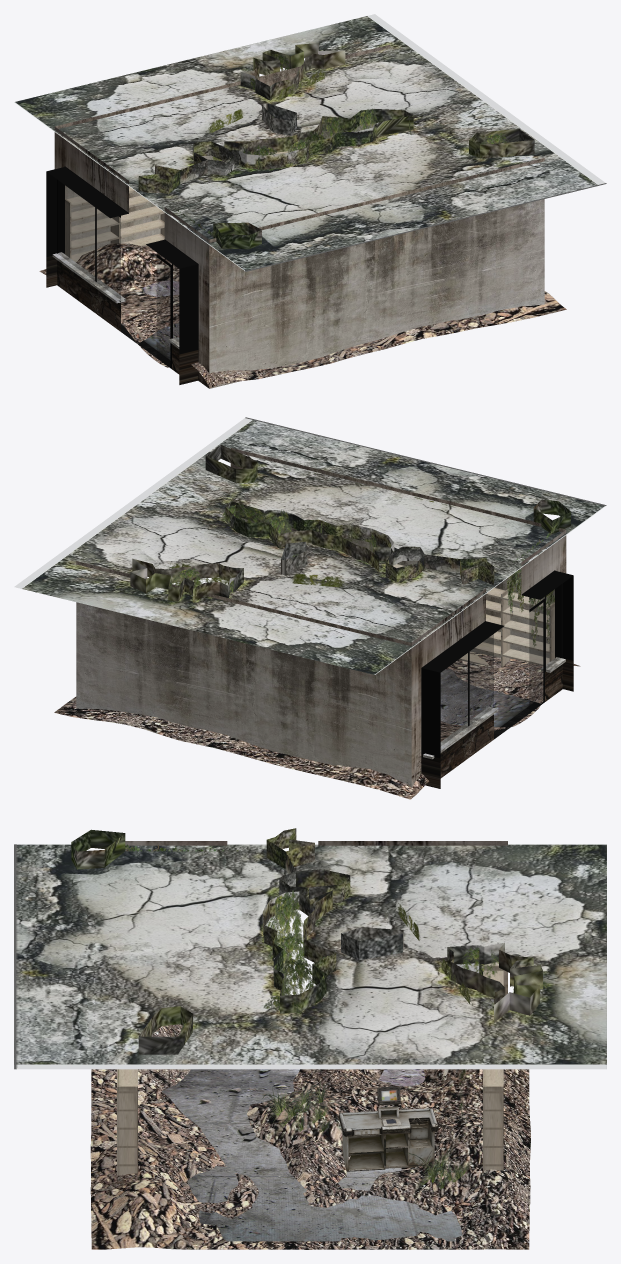
The model's file is pharmacy_interior.glb.
3 renders of one model, top to bottom at view 1: azimuth 30°, elevation 25°; view 2: azimuth 150°, elevation 25°; view 3: azimuth 270°, elevation 25°, orthographic. The views are drawn at different scales.
Parts seen in each view (by area): view 1: Plane, Cube, Plane.001, Cube.003, Cube.001, Plane.029; view 2: Plane, Cube, Plane.001, Cube.002, Plane.015, Cube.001, Plane.029; view 3: Plane, Plane.001, Cube, node_0_Material.009_0, Cube.003, Cube.002, Plane.016, Plane.017, Plane.029, Plane.003, Plane.004, Plane.010.
Boxes of the visible parts, box(x1,y1,x2,y2) form: Plane: box(14, 14, 606, 271); Cube: box(46, 44, 544, 388); Plane.001: box(39, 243, 566, 387); Cube.003: box(65, 146, 305, 262); Cube.001: box(52, 252, 179, 348); Plane.029: box(205, 68, 330, 160); Plane: box(14, 417, 606, 674); Cube: box(76, 448, 573, 788); Plane.001: box(54, 651, 580, 799); Cube.002: box(393, 564, 554, 666); Plane.015: box(506, 530, 554, 647); Cube.001: box(423, 657, 565, 759); Plane.029: box(164, 563, 348, 587); Plane: box(14, 828, 606, 1069); Plane.001: box(90, 1024, 530, 1249); Cube: box(125, 841, 507, 1241); node_0_Material.009_0: box(338, 1086, 438, 1171); Cube.003: box(483, 962, 503, 1170); Cube.002: box(117, 1069, 137, 1175); Plane.016: box(280, 958, 314, 995); Plane.017: box(270, 898, 301, 972); Plane.029: box(396, 903, 473, 1117); Plane.003: box(267, 931, 307, 995); Plane.004: box(266, 890, 303, 986); Plane.010: box(460, 947, 498, 978).
Size of the model in its own units: 12.28 by 5.47 by 13.05.
8 materials, 8 textured.
